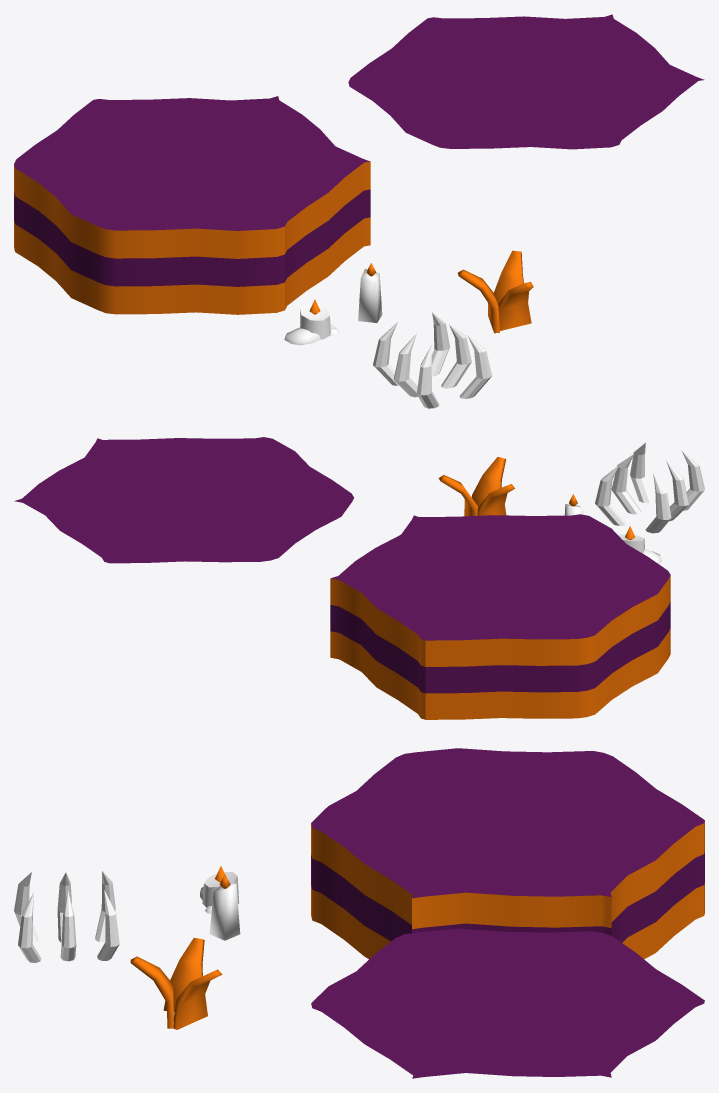
Rendered from GhostRun_FloorObjects.fbx.
3 renders of one model, top to bottom at view 1: azimuth 30°, elevation 25°; view 2: azimuth 150°, elevation 25°; view 3: azimuth 270°, elevation 25°, orthographic. The views are drawn at different scales.
Visible parts, largest first — view 1: chao_ghostRun, chao_ghostRun.002, costelas.001, Cube.038, vela_1.001, vela_2.001; view 2: chao_ghostRun, chao_ghostRun.002, costelas.001, Cube.038, vela_1.001; view 3: chao_ghostRun, chao_ghostRun.002, costelas.001, Cube.038, vela_2.001, vela_1.001.
Part boxes in pixels (box(x1,y1,x2,y2)): chao_ghostRun: box(14, 96, 370, 314); chao_ghostRun.002: box(348, 14, 704, 149); costelas.001: box(373, 312, 491, 408); Cube.038: box(457, 250, 533, 333); vela_1.001: box(284, 299, 339, 345); vela_2.001: box(358, 263, 382, 322); chao_ghostRun: box(330, 514, 670, 719); chao_ghostRun.002: box(14, 437, 353, 563); costelas.001: box(595, 442, 704, 533); Cube.038: box(438, 457, 514, 516); vela_1.001: box(618, 526, 661, 563); chao_ghostRun: box(311, 748, 704, 959); chao_ghostRun.002: box(311, 928, 704, 1078); costelas.001: box(14, 871, 119, 962); Cube.038: box(130, 938, 222, 1029); vela_2.001: box(209, 874, 240, 940); vela_1.001: box(200, 866, 239, 913).
Size of the model in its own units: 977 by 142 by 863.
